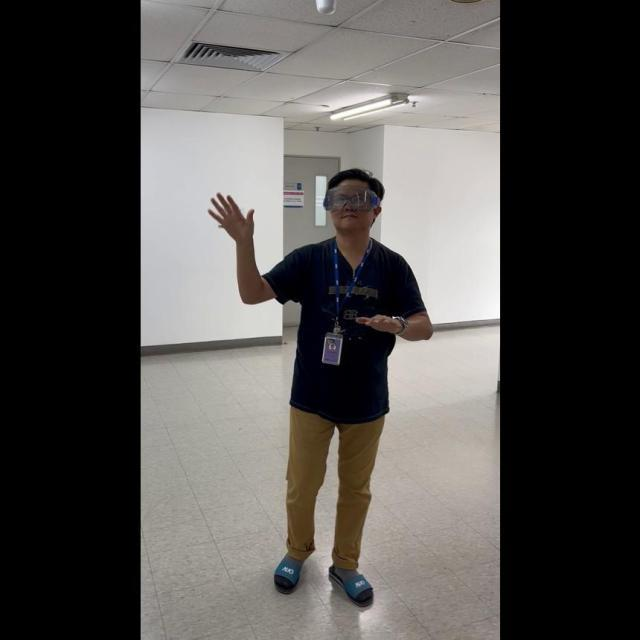bare_hand: (206, 188, 255, 245), (349, 306, 407, 336)
